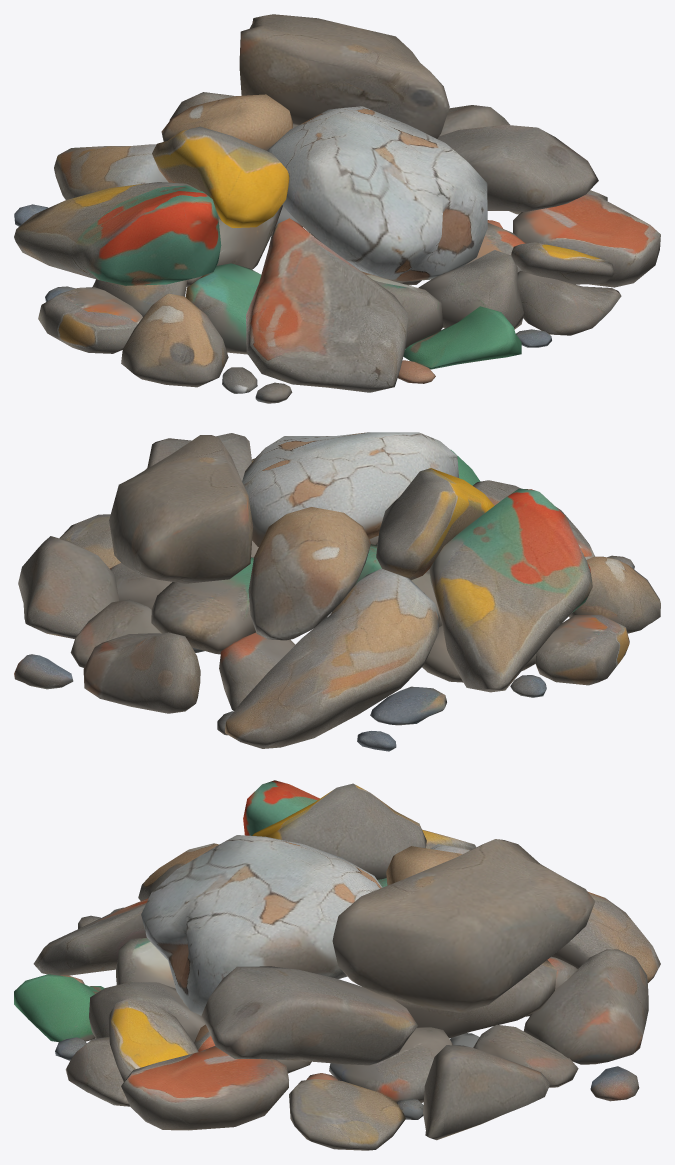
File: ScrapRockCluster.fbx
3 renders of one model, top to bottom at view 1: azimuth 30°, elevation 25°; view 2: azimuth 150°, elevation 25°; view 3: azimuth 270°, elevation 25°, orthographic. The views are drawn at different scales.
Parts seen in each view (by area): view 1: Mesh_0; view 2: Mesh_0; view 3: Mesh_0.
Part boxes in pixels (x1,y1,x2,y2): Mesh_0: (14, 14, 660, 403); Mesh_0: (14, 432, 660, 751); Mesh_0: (14, 780, 660, 1150).
Size of the model in its own units: 100 by 32.79 by 99.99.
1 material, 1 textured.
